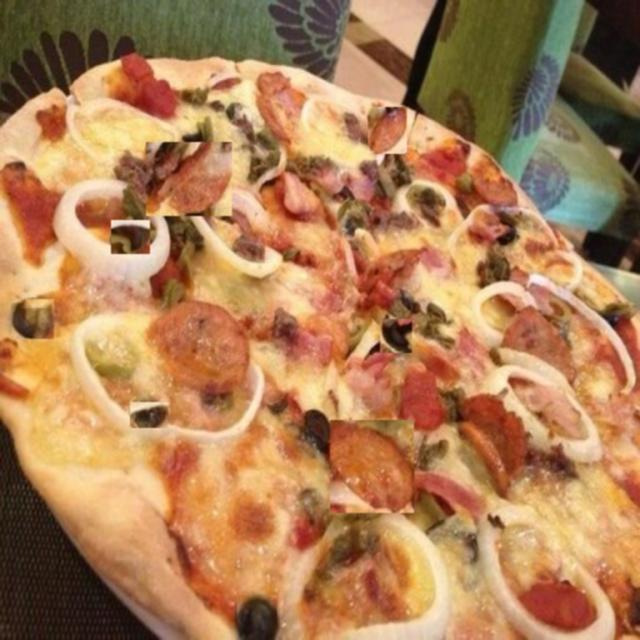olive: (238, 595, 278, 640), (11, 299, 54, 339), (111, 220, 150, 254), (380, 320, 412, 354), (308, 409, 331, 453), (130, 402, 168, 428)
pepperoni: (152, 304, 249, 392), (330, 420, 414, 513), (463, 390, 527, 498), (146, 142, 232, 216), (503, 307, 576, 384), (368, 107, 407, 154)
pizza: (0, 54, 640, 640)
